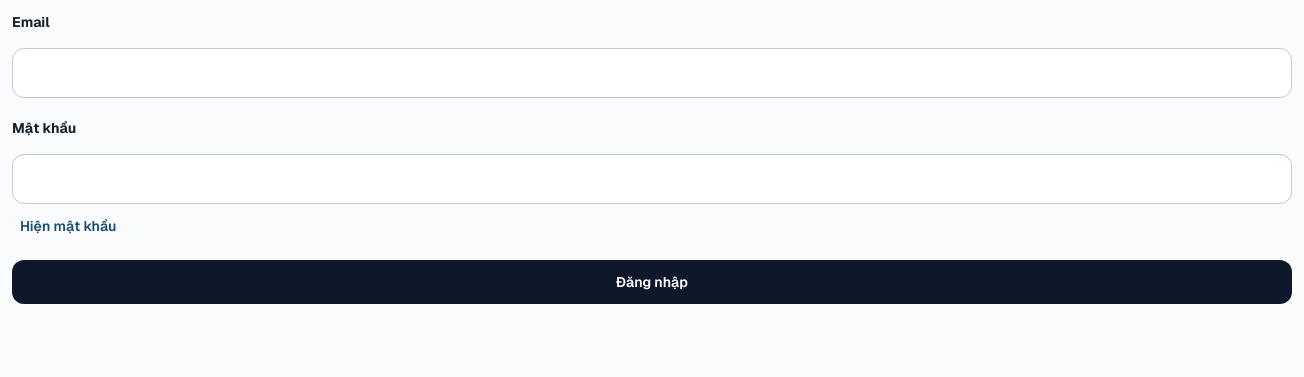
Test: staff admin authentication › renders accessible validation and password visibility
Click the button "Hiện mật khẩu" at (68, 226), box [12, 212, 124, 240]
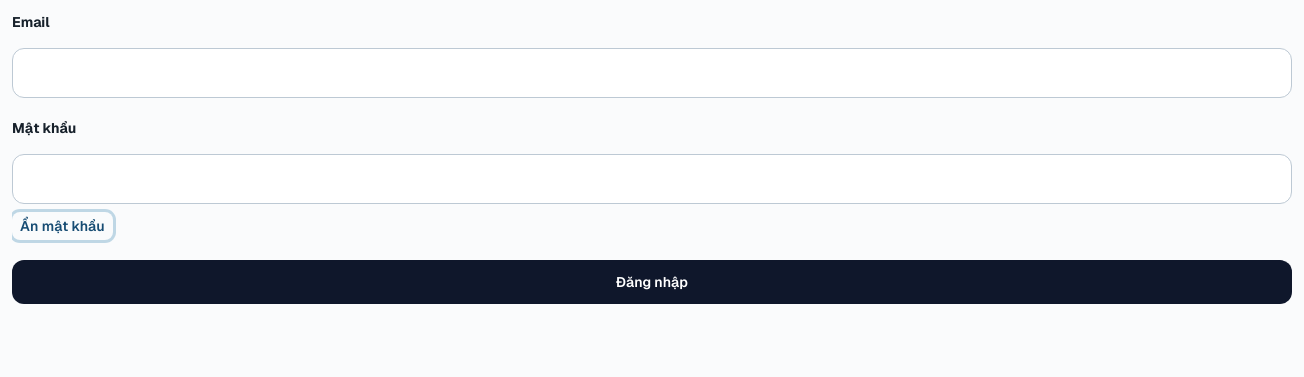
Click the button "Đăng nhập" at (652, 282), box [12, 260, 1292, 304]
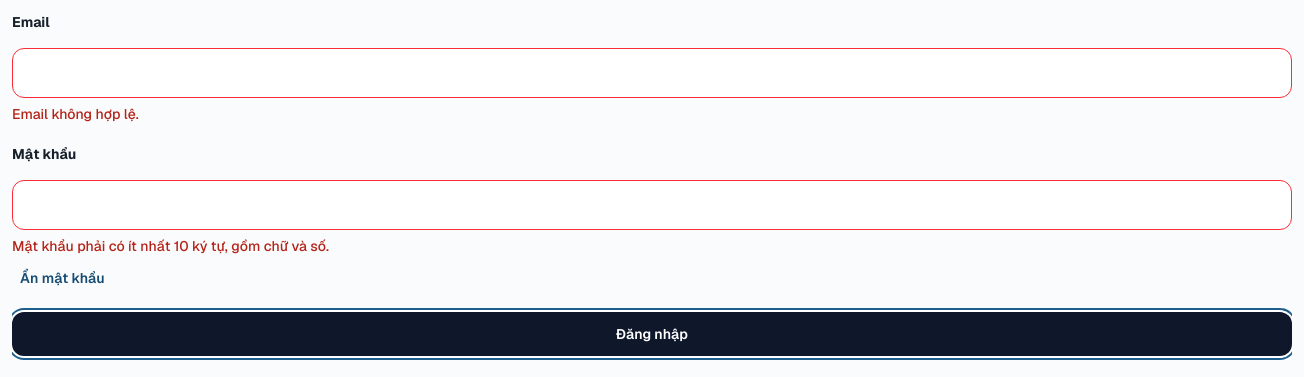
Now the text "Email không hợp lệ." is shown, box [12, 105, 139, 123]
Now the text "Mật khẩu phải có ít nhất 10 ký tự, gồm chữ và số." is shown, box [12, 237, 329, 255]
